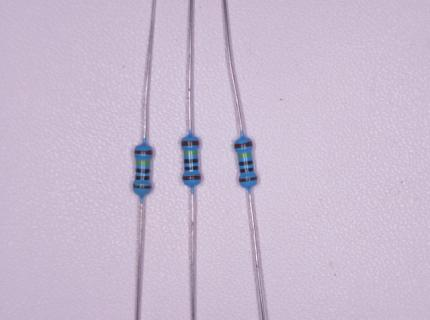Black band: (239, 167, 254, 173), (184, 166, 199, 171), (135, 168, 150, 173), (135, 175, 150, 180), (239, 160, 253, 165), (184, 159, 198, 164)
Brown band: (234, 141, 253, 149), (238, 176, 257, 183), (181, 140, 199, 146), (133, 184, 152, 189), (182, 175, 201, 180), (134, 150, 152, 155)
Yellow band: (237, 152, 251, 158), (135, 160, 150, 165), (184, 150, 198, 155)
